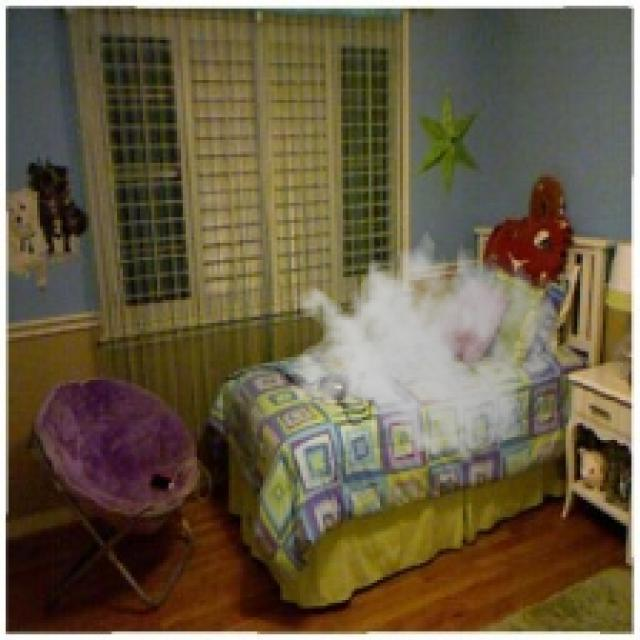smoke: (286, 220, 560, 471)
